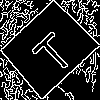T: (24, 24, 77, 78)
